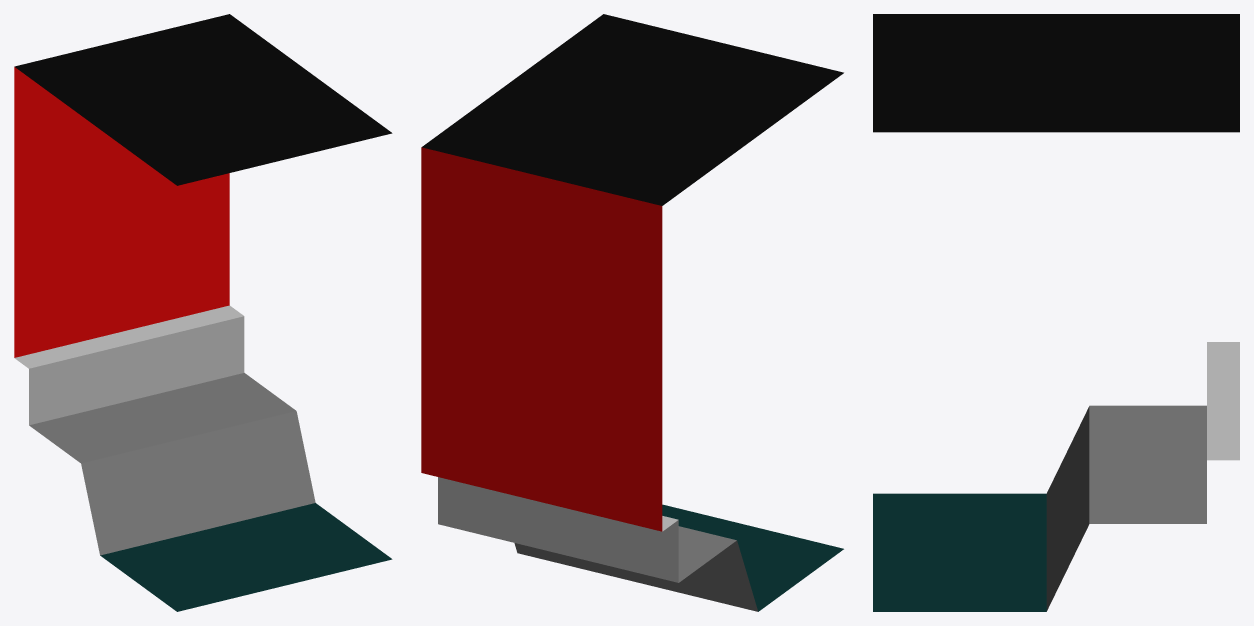
File: recta.fbx
The picture shows the model from 3 angles, left to right: view 1: azimuth 30°, elevation 25°; view 2: azimuth 150°, elevation 25°; view 3: azimuth 270°, elevation 25°; orthographic projection. The views are drawn at different scales.
Parts seen in each view (by area): view 1: Pieza_Recta; view 2: Pieza_Recta; view 3: Pieza_Recta.
Boxes of the visible parts, box(x1,y1,x2,y2) form: Pieza_Recta: box(14, 14, 392, 611); Pieza_Recta: box(421, 14, 843, 611); Pieza_Recta: box(873, 14, 1239, 611).
Size of the model in its own units: 20 by 37.77 by 26.19.
